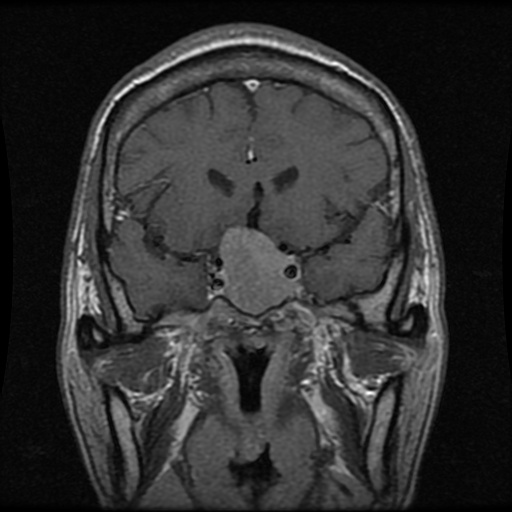pituitary: (222, 228, 286, 310)
